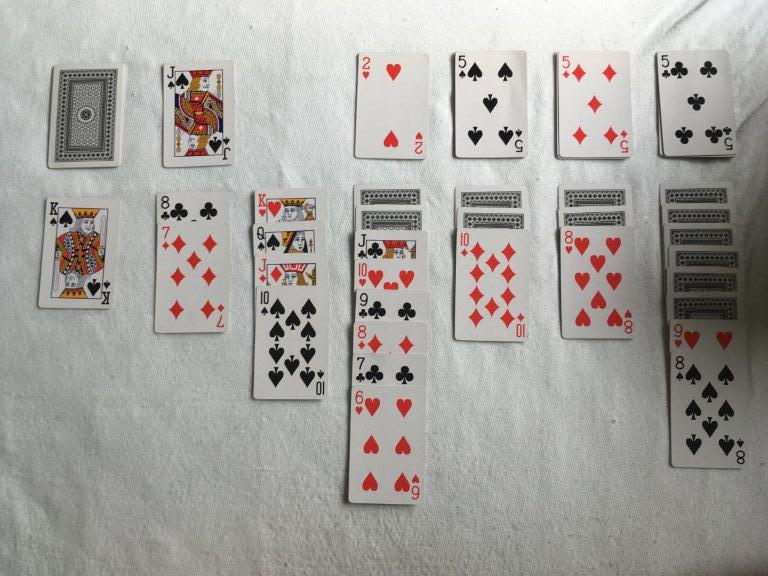10D: (458, 229, 472, 258)
10H: (356, 259, 369, 288)
10S: (257, 286, 272, 317)
2H: (359, 53, 373, 82)
5C: (657, 52, 673, 80)
5D: (559, 52, 573, 80)
5S: (455, 51, 470, 80)
6H: (352, 386, 367, 419)
7C: (354, 353, 368, 385)
7D: (159, 222, 172, 252)
8C: (159, 193, 172, 222)
8D: (356, 322, 370, 351)
8H: (562, 226, 576, 257)
8S: (673, 350, 686, 383)
9C: (357, 289, 369, 318)
9H: (670, 320, 686, 350)
BACK: (47, 63, 126, 169), (666, 291, 745, 319), (666, 265, 744, 290), (355, 204, 427, 229), (667, 243, 745, 266), (660, 180, 735, 203), (663, 222, 739, 244), (455, 185, 528, 207), (661, 202, 737, 223), (457, 205, 529, 227), (558, 183, 633, 204), (558, 204, 633, 224), (354, 183, 426, 203)
JC: (355, 231, 370, 259)
JD: (257, 254, 271, 285)
JS: (164, 63, 178, 91)
KH: (254, 190, 269, 218)
KS: (47, 197, 61, 227)
QS: (255, 223, 267, 253)
